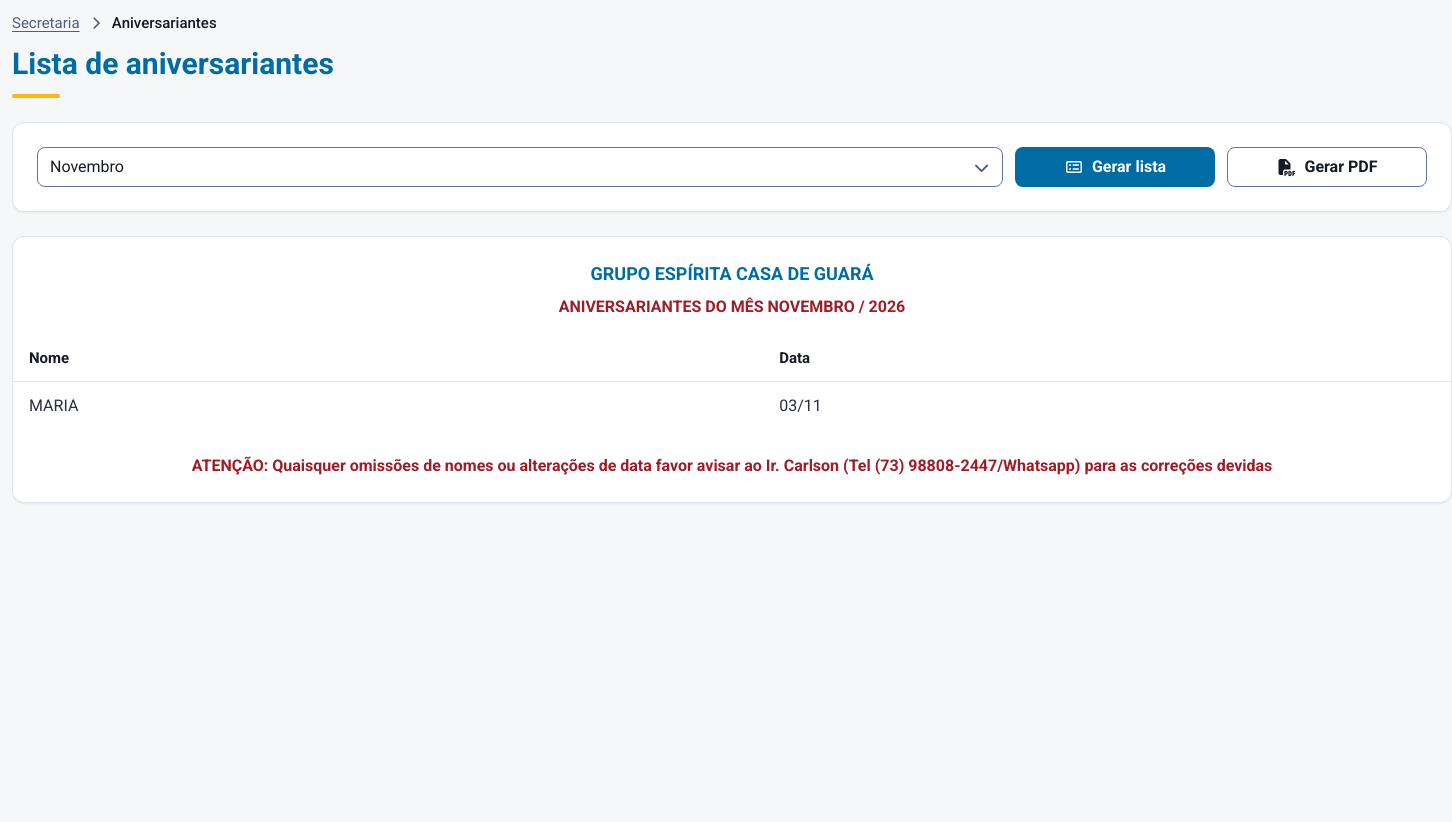
Test case: TU-37 "Gerar PDF" delivers the birthday PDF › announces the PDF ready for printing
Click the button "Gerar PDF": (1327, 167) [1227,147,1427,187]
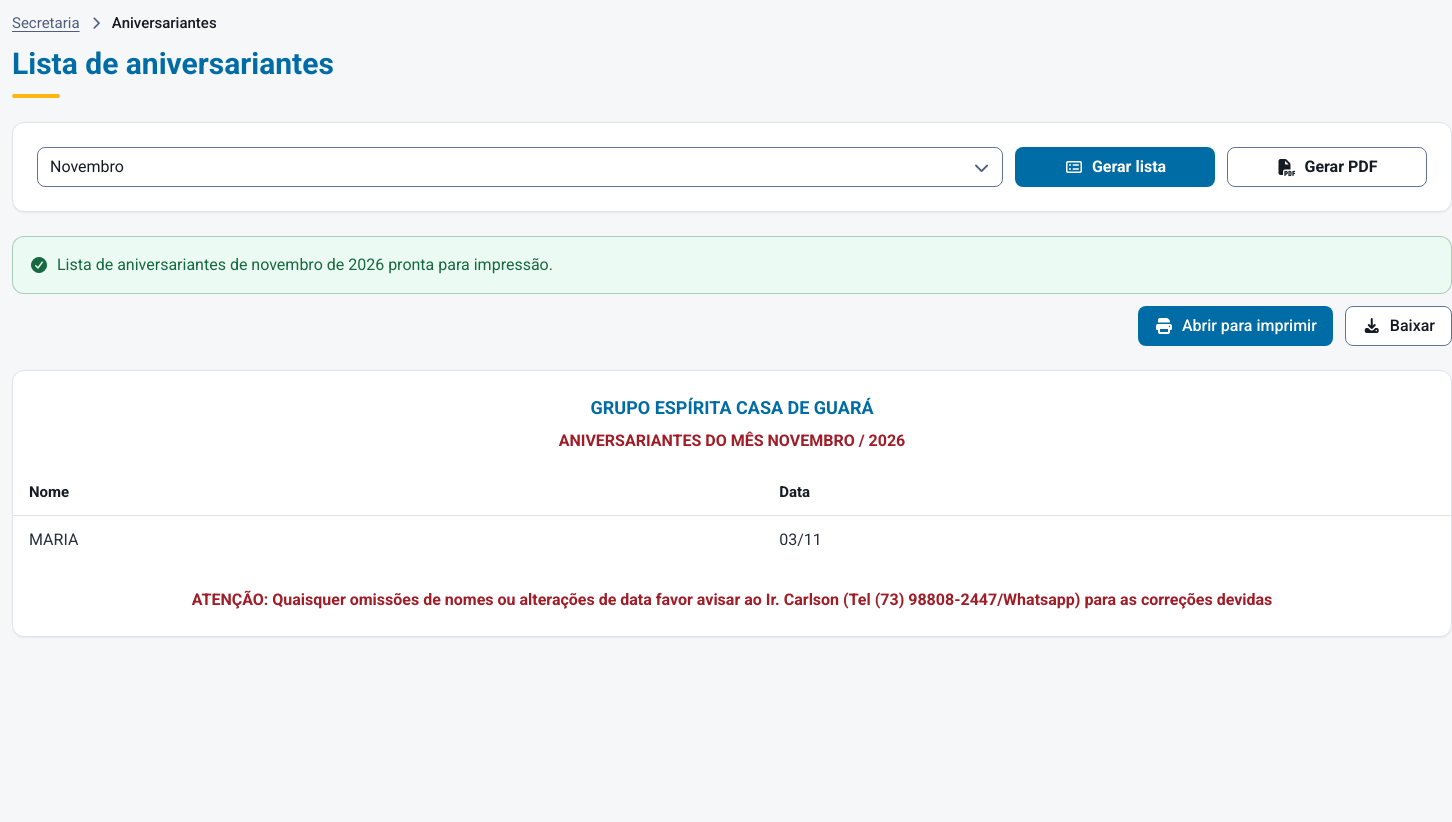
Check: the message "Lista de aniversariantes de novembro de 2026 pronta para impressão." is shown, box [12,236,1451,294]
